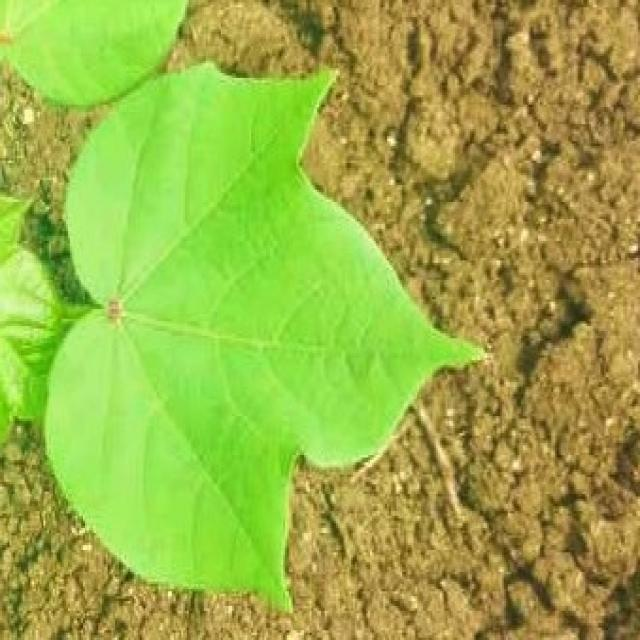Healthy Leaf: (83, 120, 276, 510)
